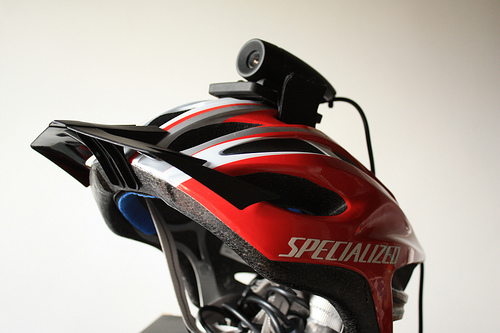helmet: (100, 83, 431, 323)
